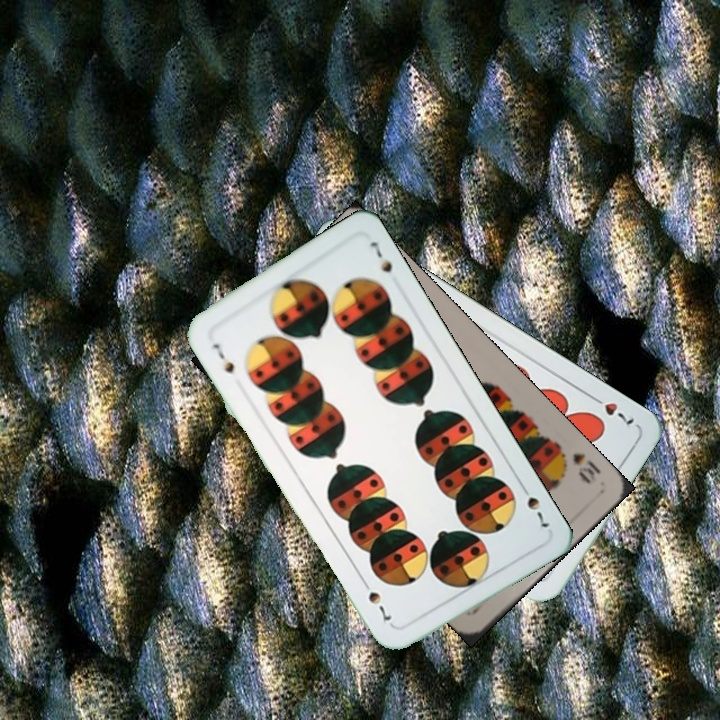H7: (586, 391, 637, 428)
S10: (554, 442, 604, 487)
S7: (516, 479, 553, 531), (208, 339, 237, 376)
